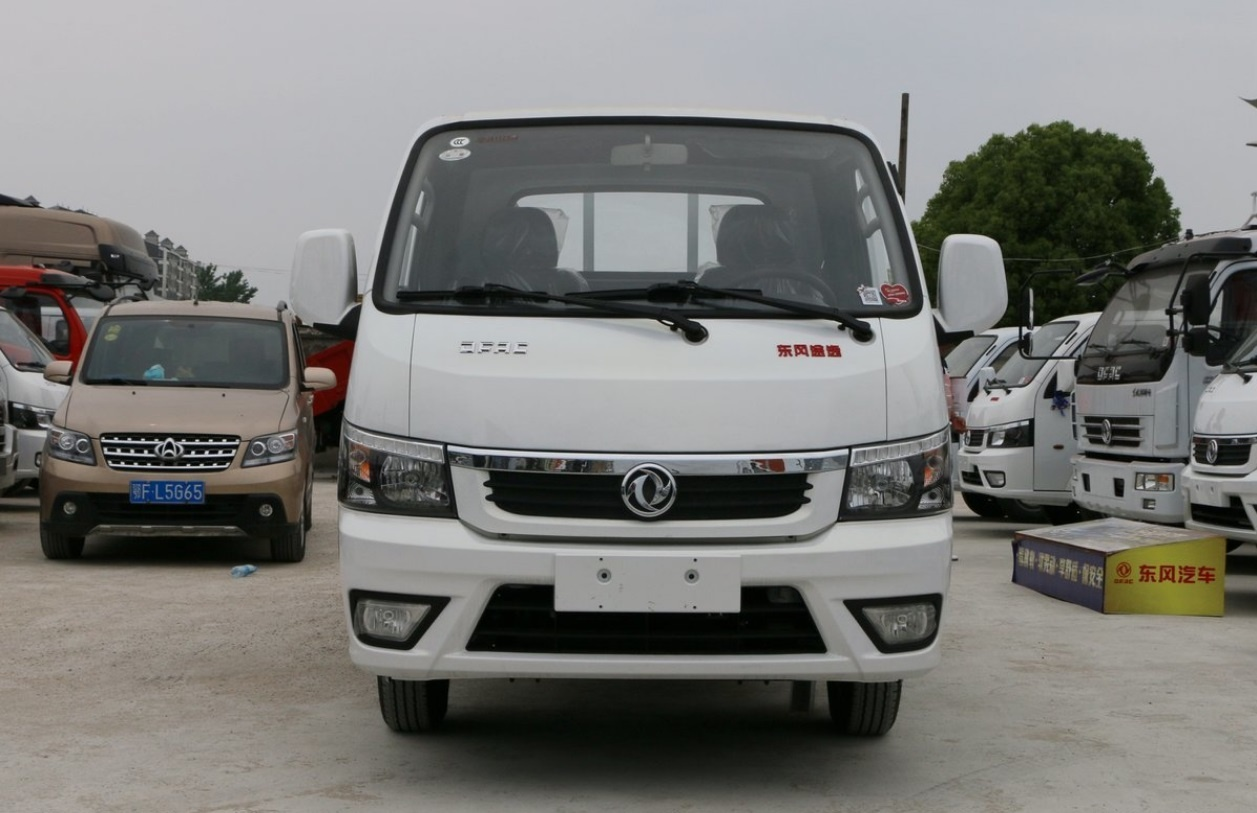truck: (285, 98, 1002, 739)
